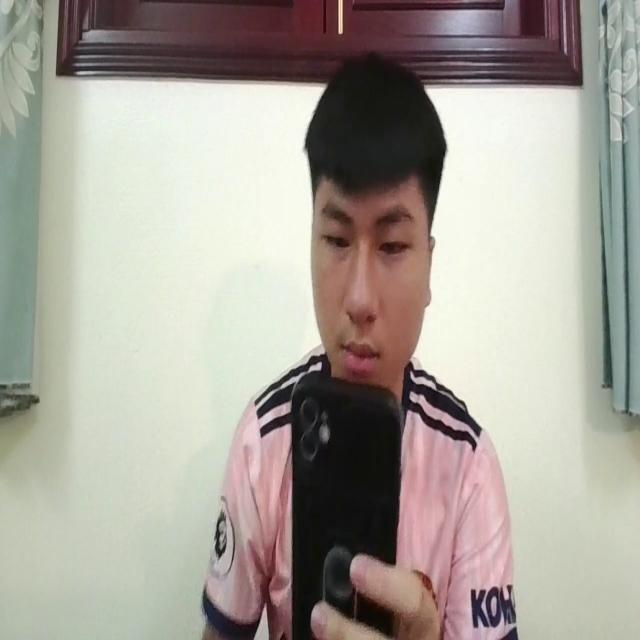phone: (287, 369, 399, 640)
student: (196, 49, 518, 640)
